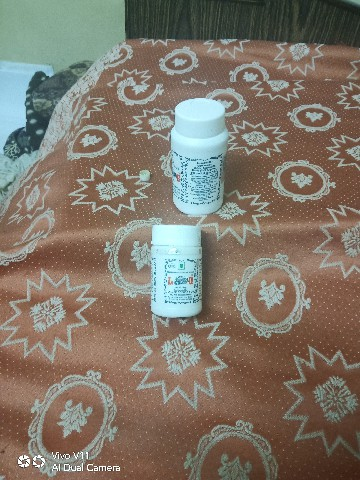lgasafoetidapowder large: (130, 91, 238, 219)
lgasafoetidapowder small: (137, 216, 216, 332)
